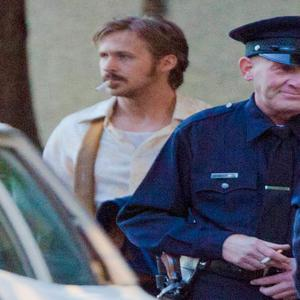cigarette: (94, 78, 113, 94)
